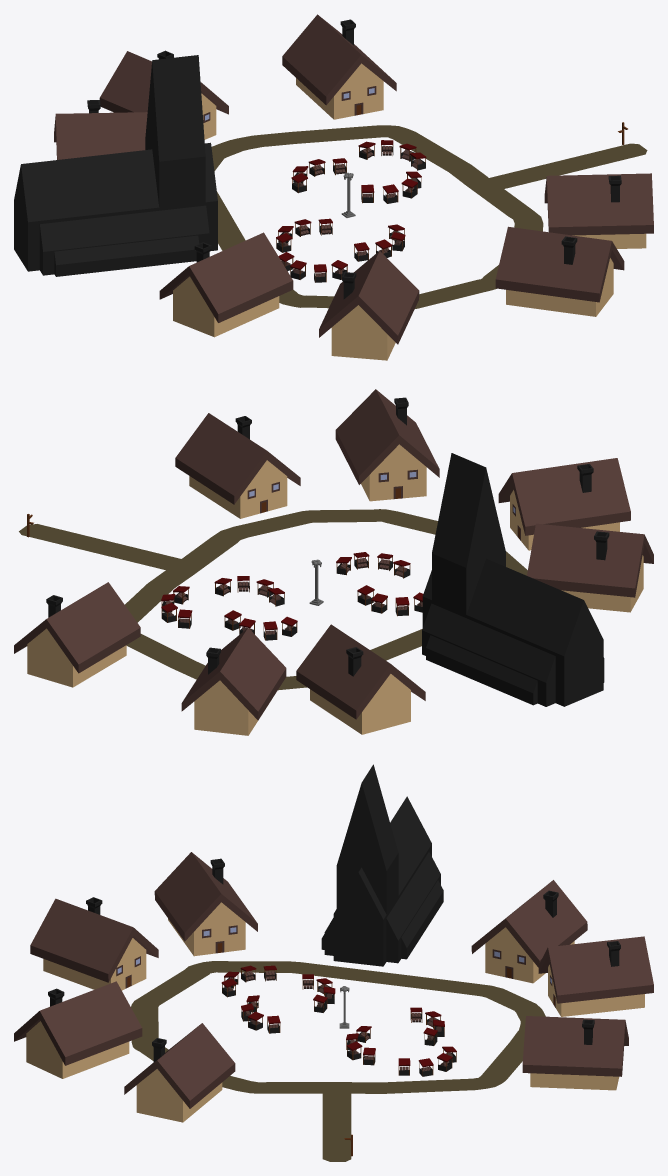
File: city.fbx
3 views of the same model, one above another, from view 1: azimuth 30°, elevation 25°; view 2: azimuth 150°, elevation 25°; view 3: azimuth 270°, elevation 25° (orthographic). The views are drawn at different scales.
Parts seen in each view (by area): view 1: Suzanne.003; view 2: Suzanne.003; view 3: Suzanne.003.
Part boxes in pixels (x1=…): Suzanne.003: x1=14, y1=14, x2=653, y2=360; Suzanne.003: x1=14, y1=389, x2=653, y2=735; Suzanne.003: x1=14, y1=764, x2=653, y2=1161.
Size of the model in its own units: 16545 by 5037 by 16318.
